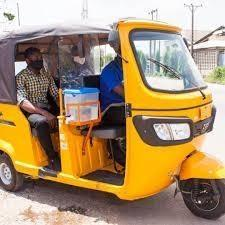keke: (0, 11, 225, 225)
